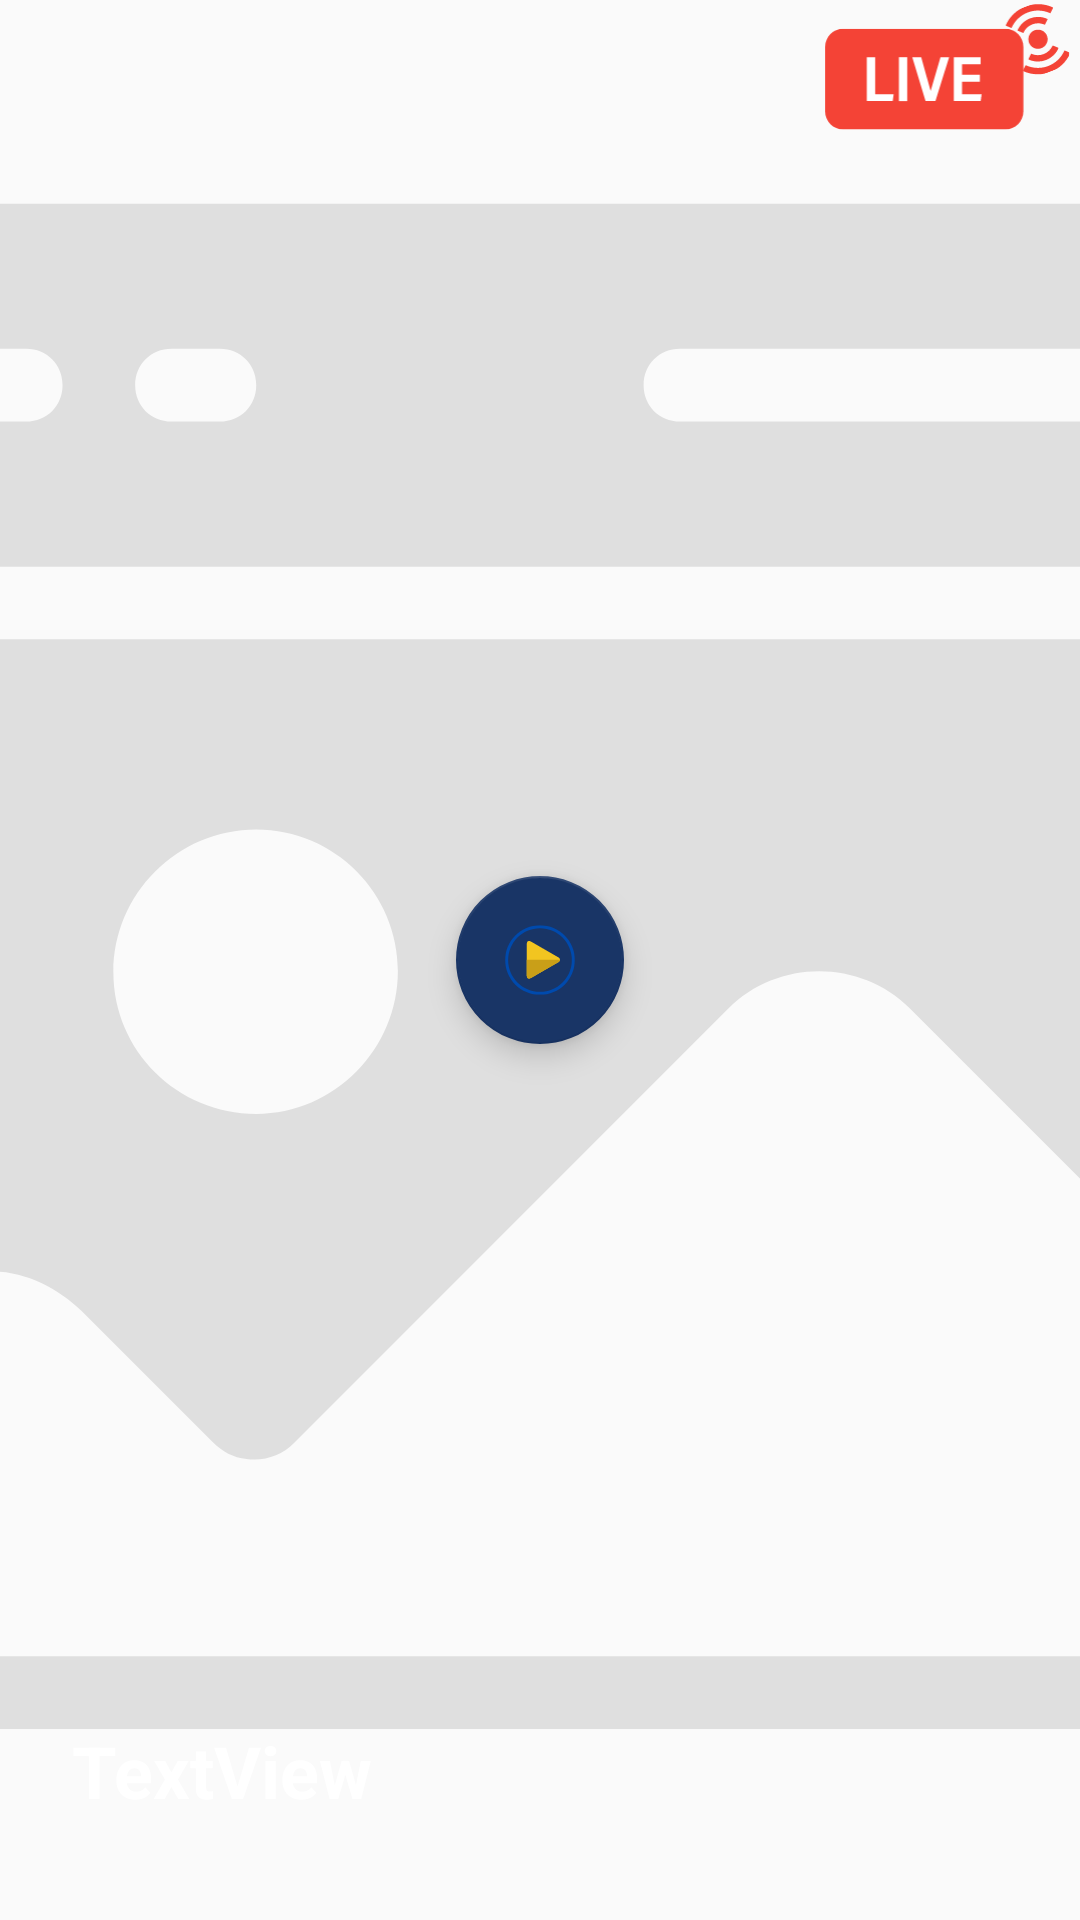

Icon bounding boxes for this 1080px×1920px phone screenshot, format (x1, y1, x2, y2):
play: (456, 876, 624, 1044)
